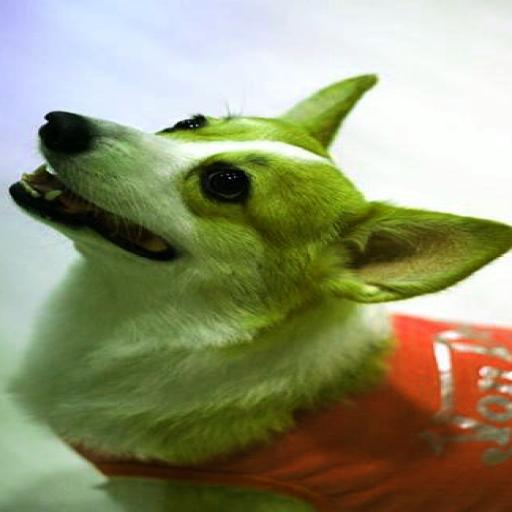dog_face: (17, 72, 503, 294)
